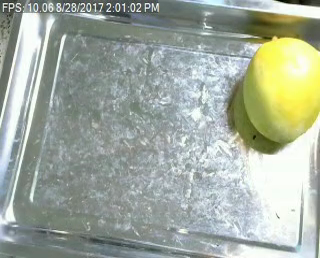Mango: (239, 38, 320, 141)
